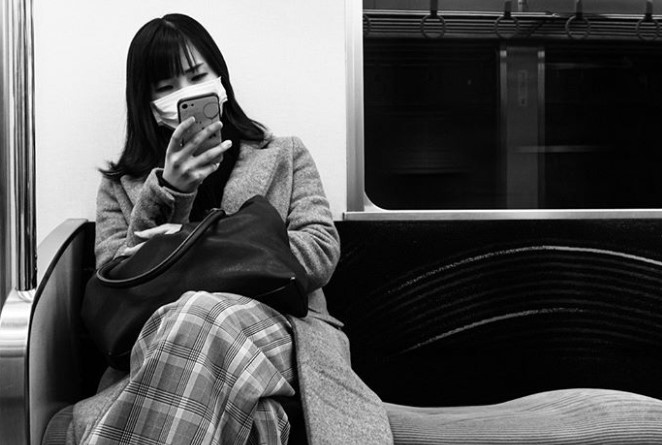face_with_mask: (130, 23, 233, 142)
